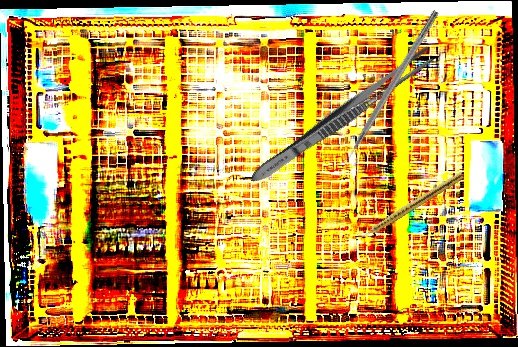Dressing Forceps: (245, 42, 438, 190)
Handpiece: (356, 169, 465, 243)
Hook Surgical: (334, 9, 441, 176)
